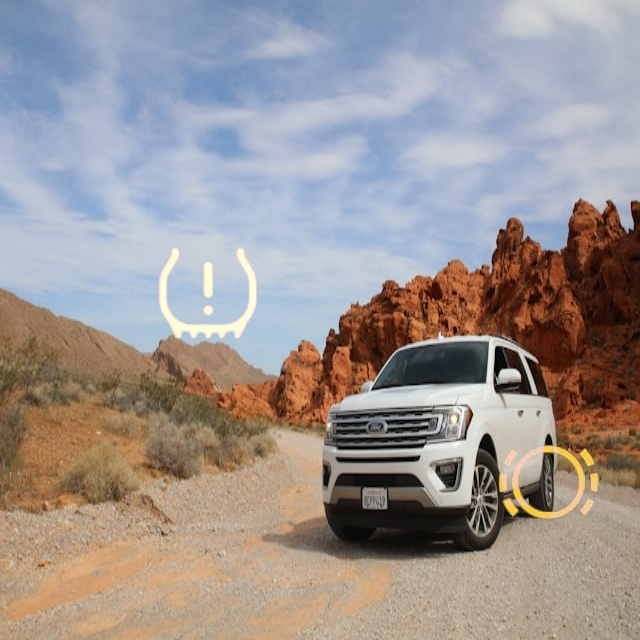symbol: (123, 209, 294, 380), (478, 413, 619, 554)
